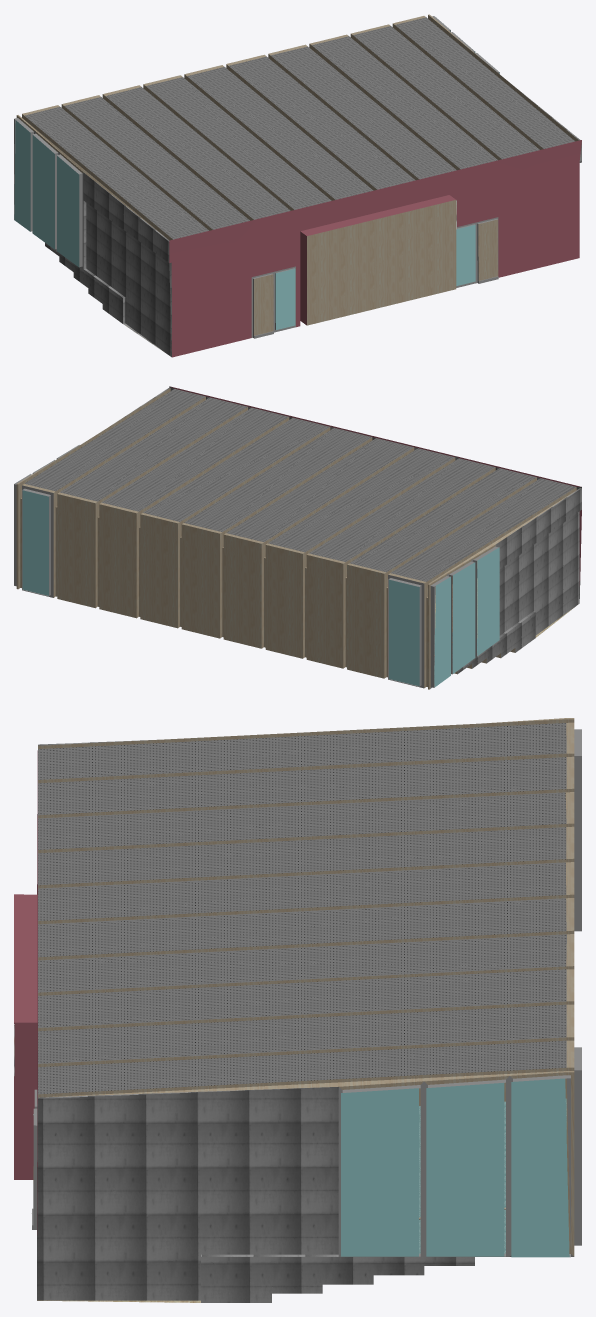
The model's file is e112max.dae.
3 views of the same model, one above another, from view 1: azimuth 30°, elevation 25°; view 2: azimuth 150°, elevation 25°; view 3: azimuth 270°, elevation 25° (orthographic). The views are drawn at different scales.
Parts seen in each view (by area): view 1: strop, Object, za_tabuli, mistnost, tramy_stropy, skla, ramy_vpravo, skla_dveri_ncl1_1, vypln_dveri001, skla_dveri, vypln_dveri, dvere_prave (+1 smaller); view 2: strop, tramy_stropy, skla, mistnost, ramy_vpravo, ramy_vlevo, Object; view 3: strop, mistnost, skla, tramy_stropy, Object, ramy_vlevo, ramy_vpravo.
Boxes of the visible parts, bbox=[...] form: strop: bbox=[24, 17, 574, 239]; Object: bbox=[169, 140, 581, 357]; za_tabuli: bbox=[307, 200, 456, 325]; mistnost: bbox=[45, 86, 581, 357]; tramy_stropy: bbox=[16, 14, 578, 240]; skla: bbox=[14, 23, 499, 267]; ramy_vpravo: bbox=[14, 118, 83, 268]; skla_dveri_ncl1_1: bbox=[275, 268, 295, 329]; vypln_dveri001: bbox=[478, 219, 498, 280]; skla_dveri: bbox=[456, 224, 475, 285]; vypln_dveri: bbox=[254, 274, 273, 335]; dvere_prave: bbox=[251, 266, 295, 338]; strop: bbox=[24, 389, 575, 581]; tramy_stropy: bbox=[16, 388, 576, 689]; skla: bbox=[22, 490, 499, 687]; mistnost: bbox=[112, 386, 581, 673]; ramy_vpravo: bbox=[388, 545, 498, 688]; ramy_vlevo: bbox=[14, 445, 79, 597]; Object: bbox=[170, 386, 581, 586]; strop: bbox=[38, 723, 566, 1094]; mistnost: bbox=[37, 739, 573, 1302]; skla: bbox=[341, 1078, 569, 1257]; tramy_stropy: bbox=[38, 718, 574, 1256]; Object: bbox=[14, 750, 37, 1234]; ramy_vlevo: bbox=[338, 1047, 581, 1257]; ramy_vpravo: bbox=[574, 729, 581, 931].
Size of the model in its own units: 1681 by 501 by 1119.
